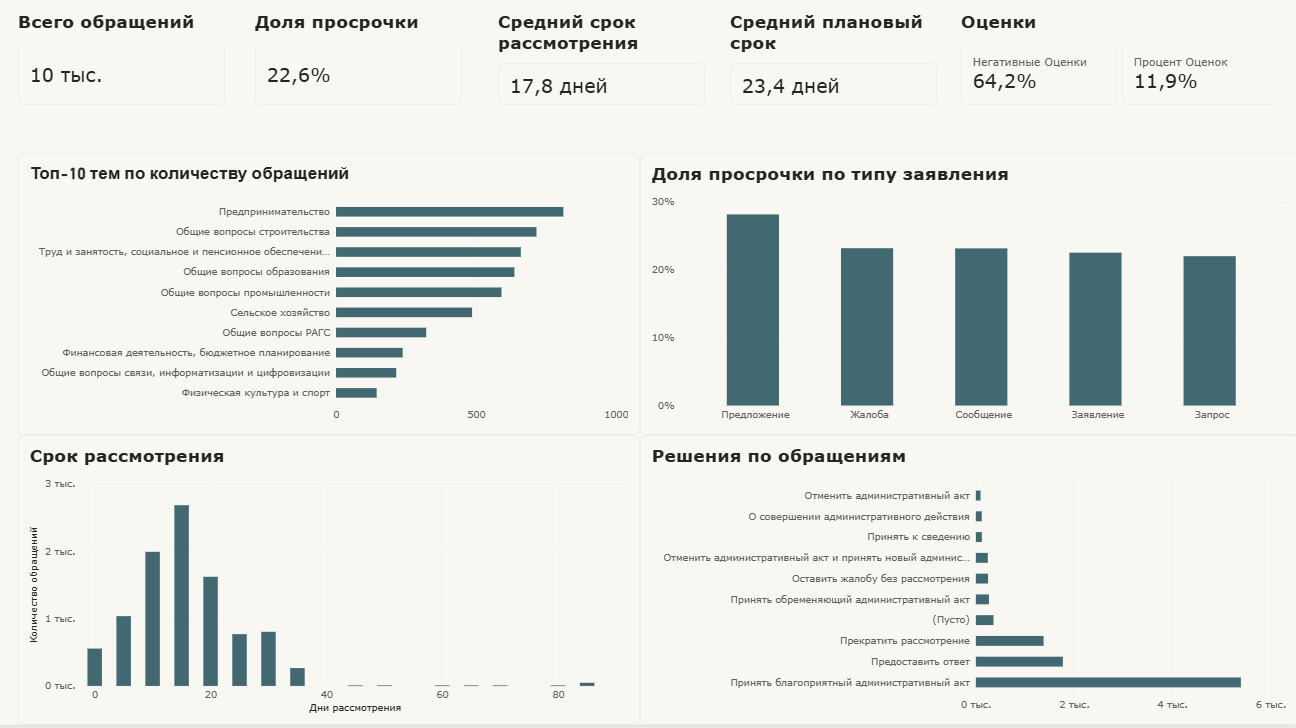

The page's visual inventory and layout, read from the dashboard file:
{"tool":"powerbi","page":{"name":"Обращения 1","canvas":[1920,1080],"ordinal":0},"visuals":[{"type":"cardVisual","title":"Всего обращений","fields":{"Data":["e_obr_synthetic_data.Всего обращений"]},"box":[52.5,37.9,302,137.1],"z":0},{"type":"cardVisual","title":"Доля просрочки","fields":{"Data":["e_obr_synthetic_data.Доля Просрочки"]},"box":[398.3,37.9,302,137.1],"z":1000},{"type":"cardVisual","title":"Средний срок рассмотрения","fields":{"Data":["e_obr_synthetic_data.Средний Срок Рассмотрения"]},"box":[752.8,37.9,302,137.1],"z":2000},{"type":"cardVisual","title":"Средний плановый срок","fields":{"Data":["e_obr_synthetic_data.Средний Плановый Срок"]},"box":[1091.3,37.9,302,137.1],"z":3000},{"type":"cardVisual","title":"Оценки","fields":{"Data":["e_obr_synthetic_data.Негативные Оценки","e_obr_synthetic_data.Процент Оценок"]},"box":[1428.3,37.9,462.5,137.1],"z":4000},{"type":"clusteredBarChart","title":"Топ-10 тем по количеству обращений","fields":{"Category":["e_obr_synthetic_data.issue"],"Y":["e_obr_synthetic_data.Всего обращений"]},"box":[52.5,245.1,907.5,411.4],"z":5000},{"type":"clusteredColumnChart","title":"Доля просрочки по типу заявления","fields":{"Category":["e_obr_synthetic_data.appeal_type"],"Y":["e_obr_synthetic_data.Доля Просрочки"]},"box":[960,245.1,960,411.4],"z":6000},{"type":"clusteredColumnChart","title":"Срок рассмотрения","fields":{"Category":["e_obr_synthetic_data.Дни Рассмотрения (ячейки)"],"Y":["e_obr_synthetic_data.Всего обращений"]},"box":[52.5,656.5,907.5,423.1],"z":7000},{"type":"clusteredBarChart","title":"Решения по обращениям","fields":{"Category":["e_obr_synthetic_data.appeal_decision"],"Y":["e_obr_synthetic_data.Всего обращений"]},"box":[960,657,960,423],"z":8000}]}

Visuals, with their boxes in screenshot pixels (x1, y1, x2, y2), scaled from the page's 1920x1080 canvas onto the 1296x728 screenshot:
"Всего обращений" cardVisual: crop(35, 26, 239, 118)
"Доля просрочки" cardVisual: crop(269, 26, 473, 118)
"Средний срок рассмотрения" cardVisual: crop(508, 26, 712, 118)
"Средний плановый срок" cardVisual: crop(737, 26, 940, 118)
"Оценки" cardVisual: crop(964, 26, 1276, 118)
"Топ-10 тем по количеству обращений" clusteredBarChart: crop(35, 165, 648, 443)
"Доля просрочки по типу заявления" clusteredColumnChart: crop(648, 165, 1295, 443)
"Срок рассмотрения" clusteredColumnChart: crop(35, 443, 648, 727)
"Решения по обращениям" clusteredBarChart: crop(648, 443, 1295, 727)
